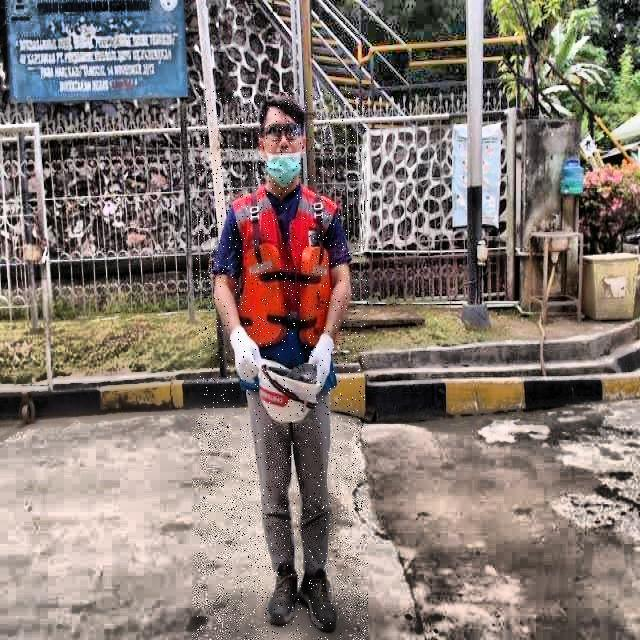safety_helmet: (259, 356, 320, 424)
safety_jacket: (234, 185, 339, 391)
